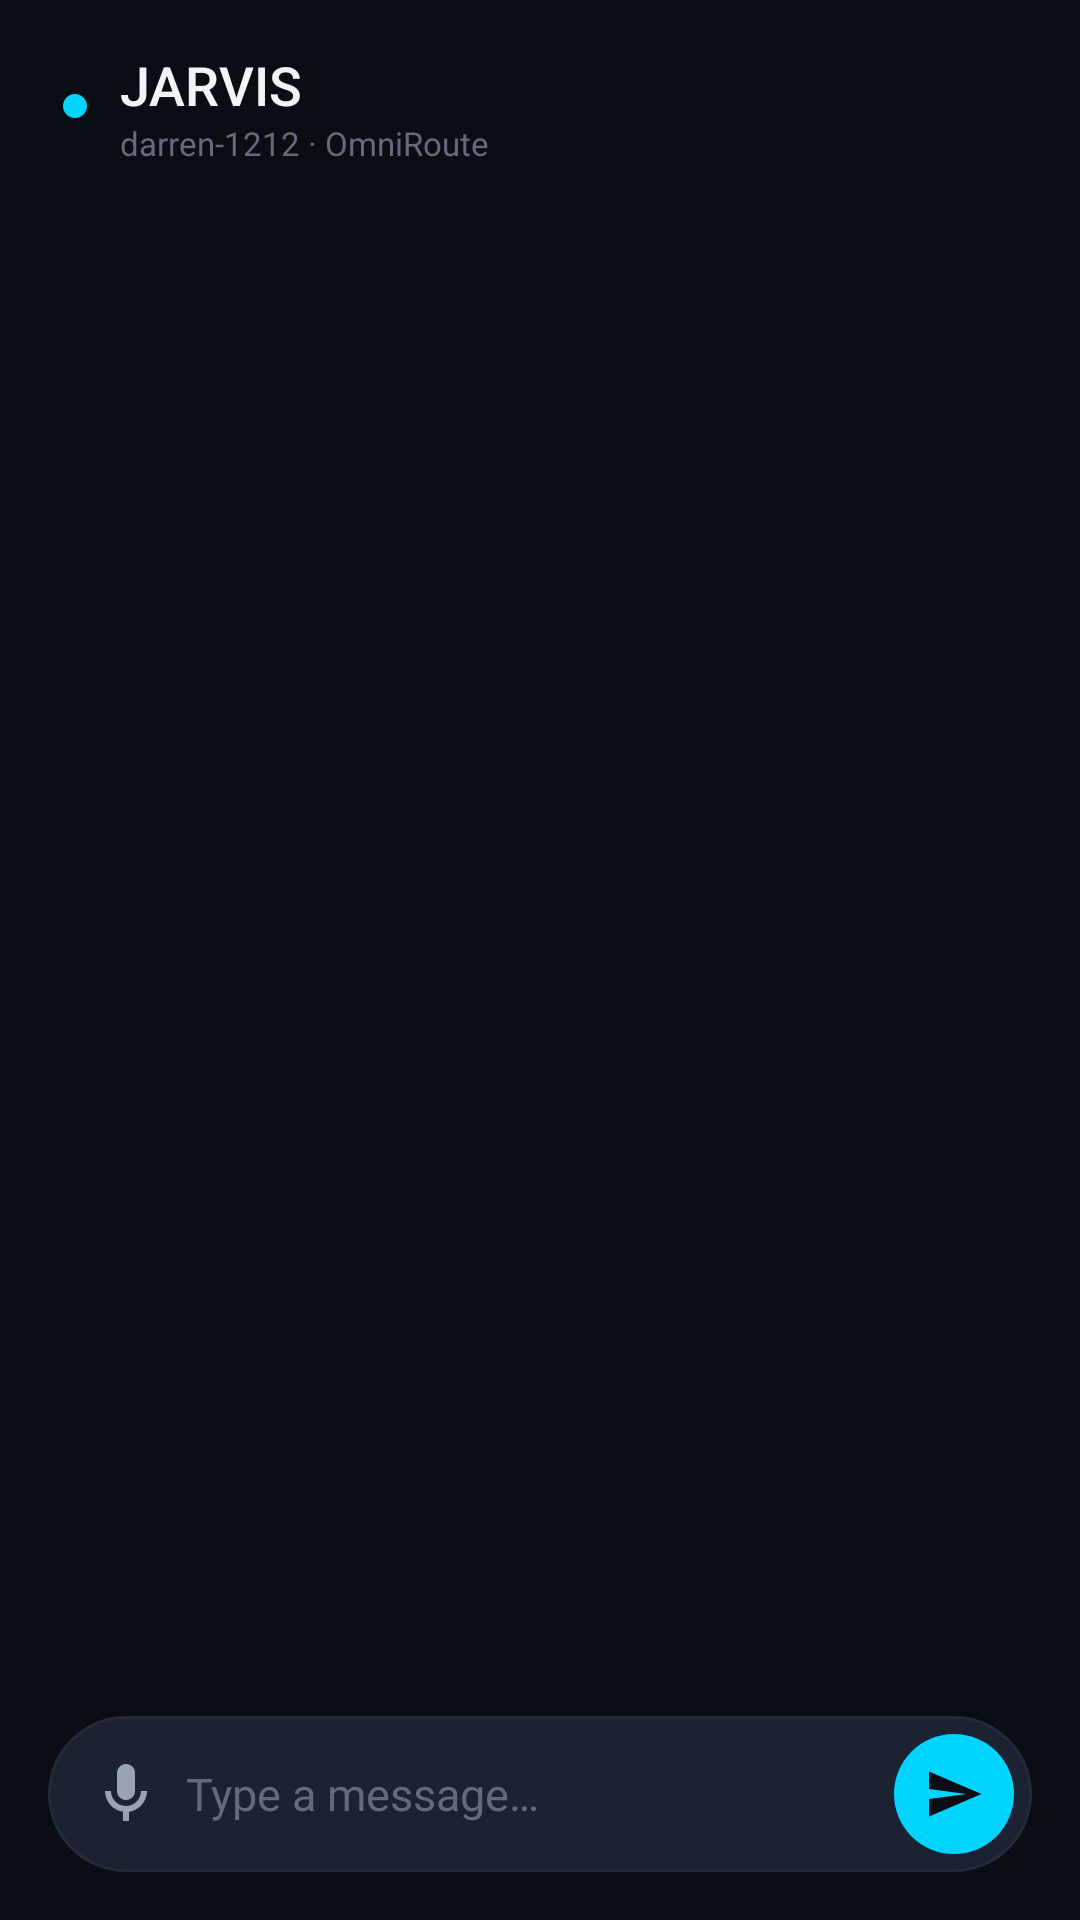

Locate icon controls on the screen. Image size 1080w x 1920h, boxes as (x1,y1,x2,y2).
Send: (894,1734,1014,1854)
Voice input: (105,1764,147,1821)
